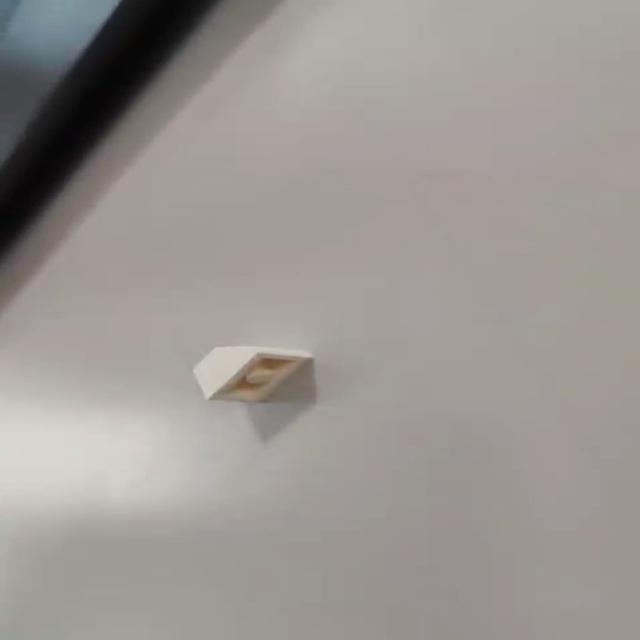P1x2x1: (187, 343, 317, 405)
